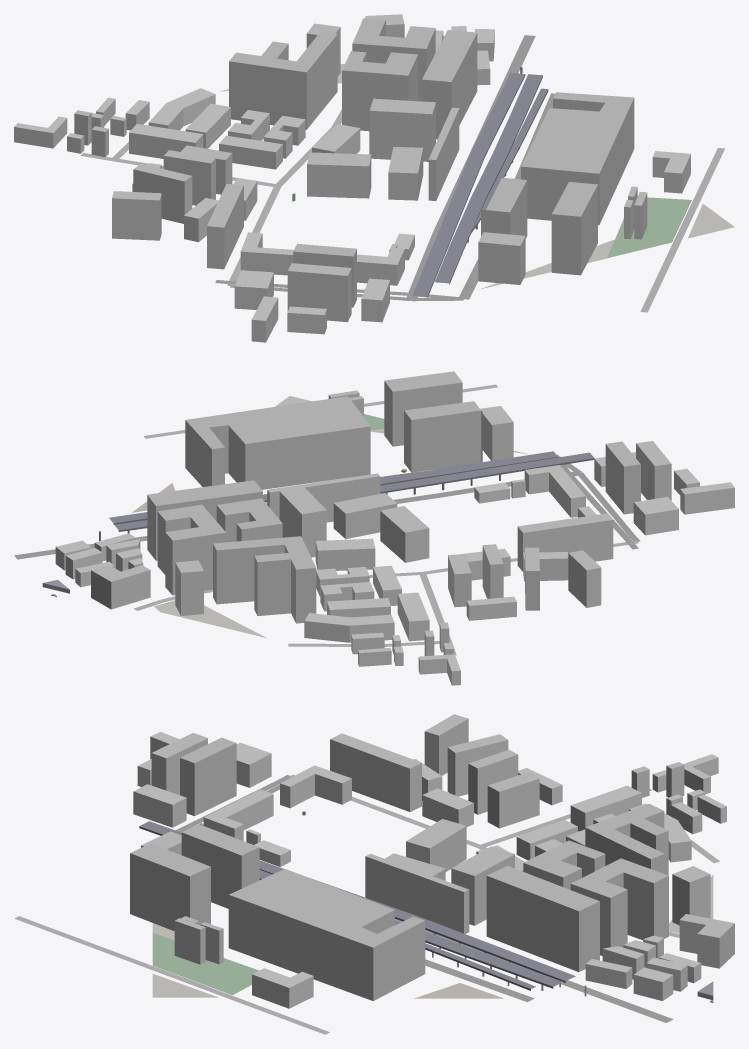
3 views of the same model, one above another, from view 1: azimuth 30°, elevation 25°; view 2: azimuth 150°, elevation 25°; view 3: azimuth 270°, elevation 25° (orthographic). The views are drawn at different scales.
Bounding box in the file's own units: 592 × 72.57 × 643.
